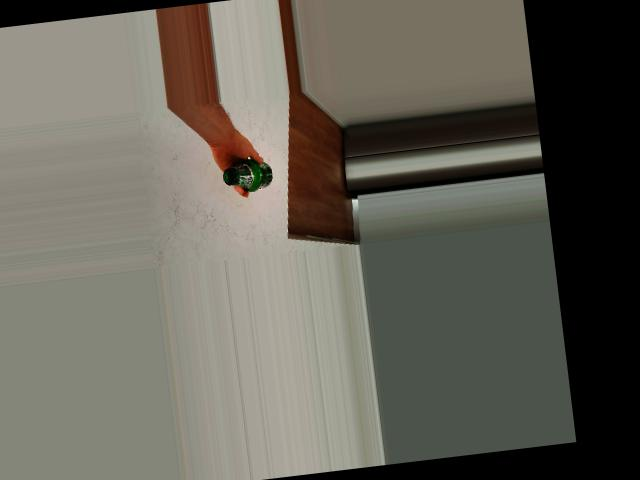beer: (221, 156, 274, 194)
